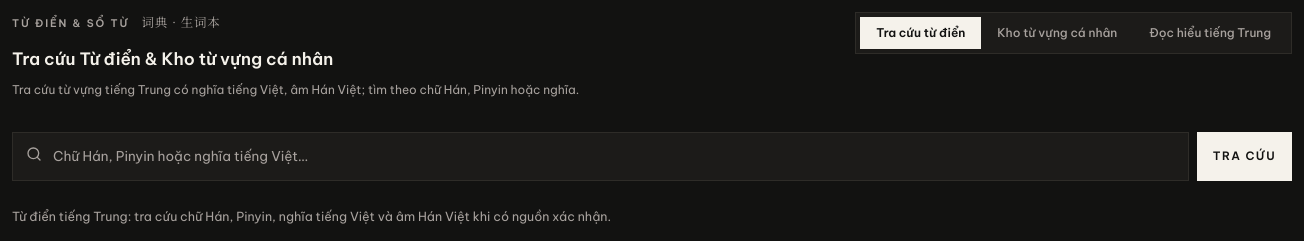
Test: default learner reading state exposes no unreviewed static passages
Click the button "Đọc hiểu tiếng Trung". click: (1210, 33)
box: [1133,17,1287,49]
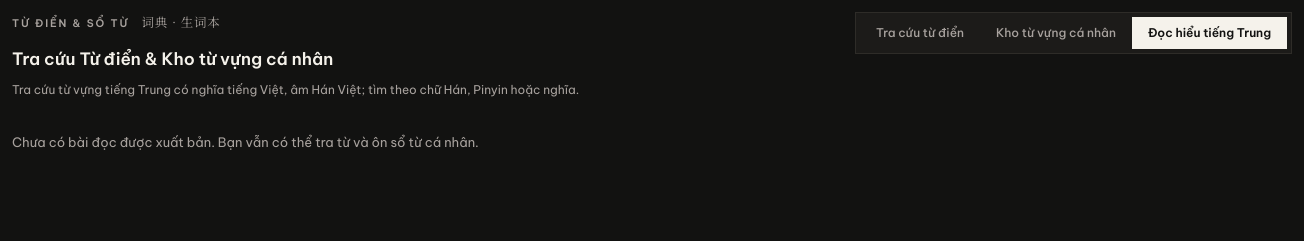
Now the message shows "Chưa có bài đọc được xuất bản", box [12,134,479,150]
